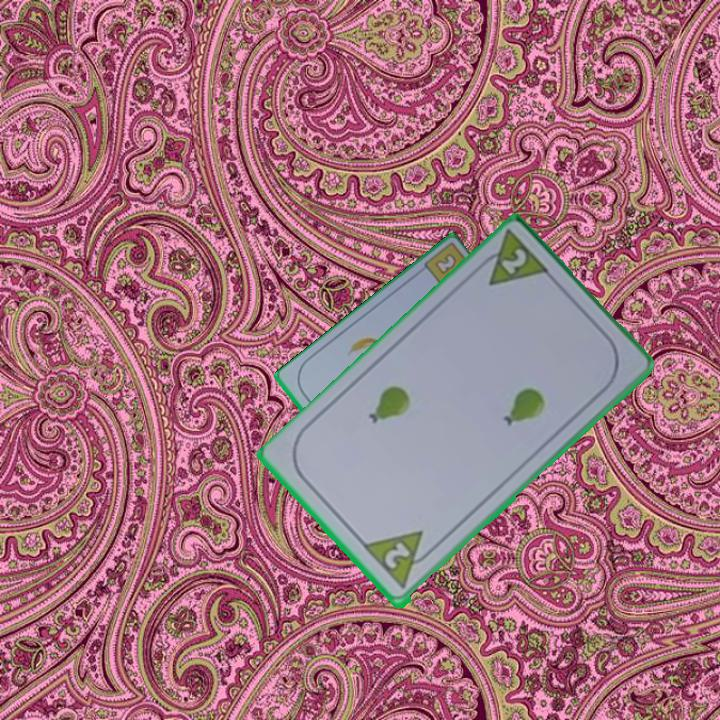2b: (433, 252, 457, 276)
2p: (380, 539, 414, 573), (497, 245, 530, 278)
